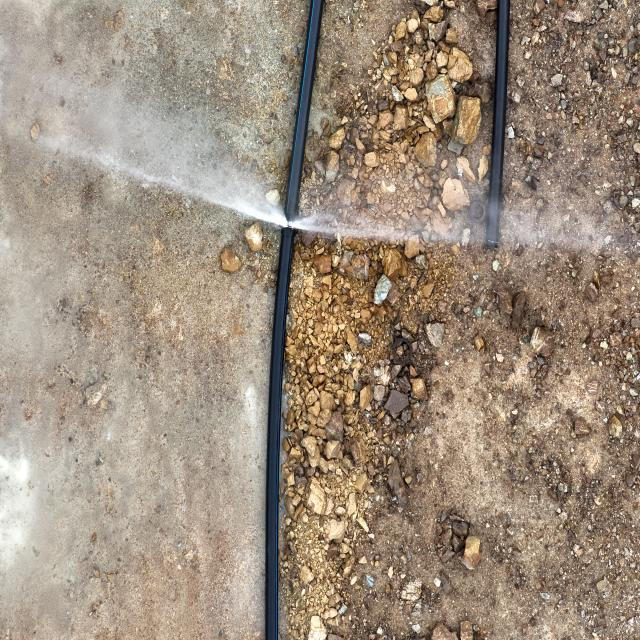leak: (26, 84, 619, 255)
